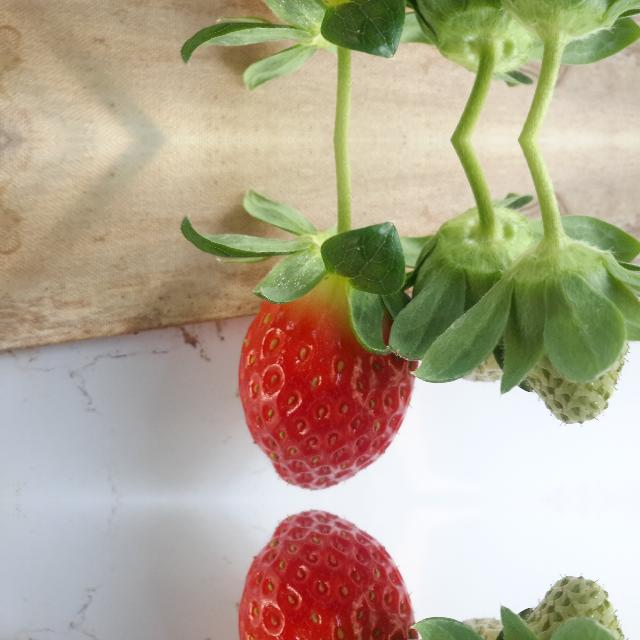Health_100: (238, 274, 418, 490), (238, 510, 418, 640)
Health_25: (504, 250, 630, 424), (504, 576, 629, 640)
